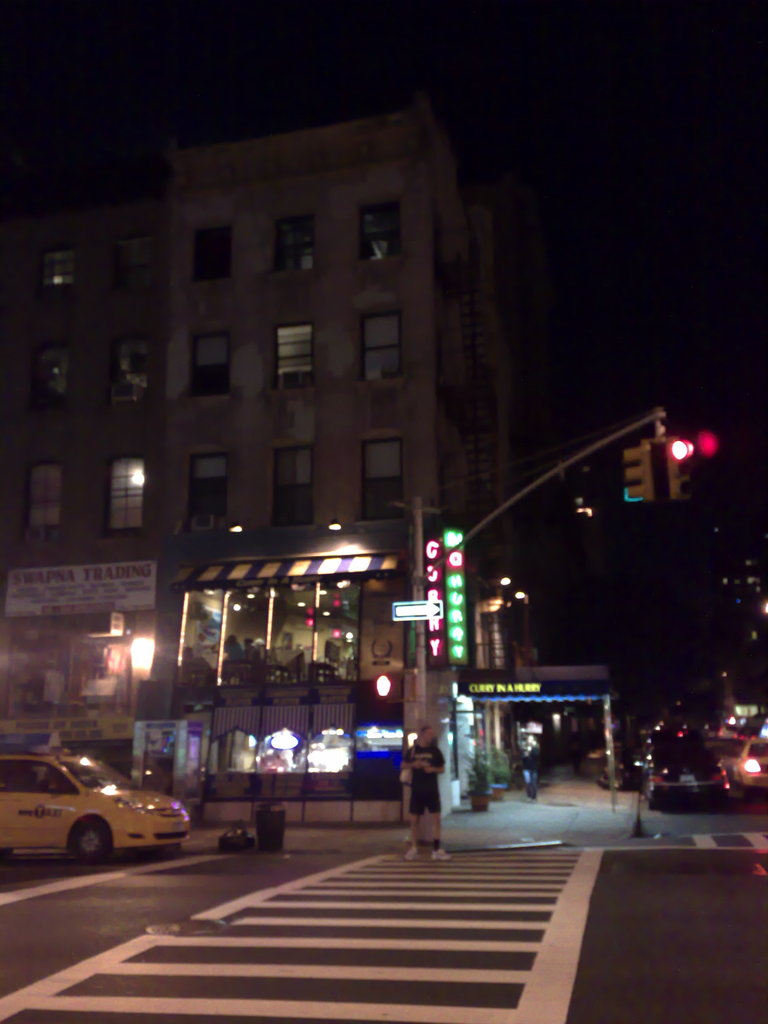green_light: (447, 642, 468, 660), (448, 606, 466, 624), (445, 530, 464, 547), (449, 591, 468, 608), (447, 574, 466, 590), (450, 626, 469, 639)
red_light: (667, 436, 694, 462)
